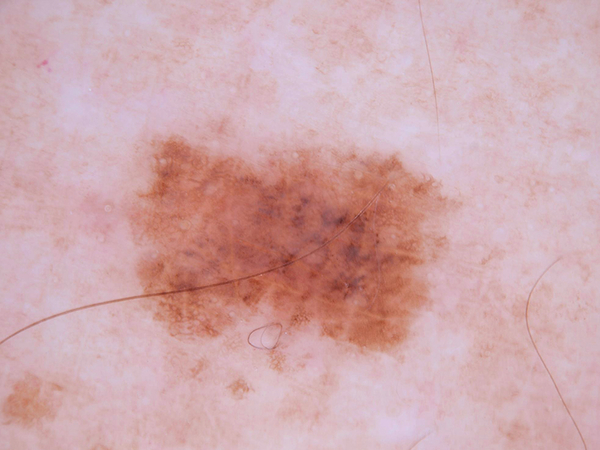Detected Lesion: (121, 129, 454, 367)
